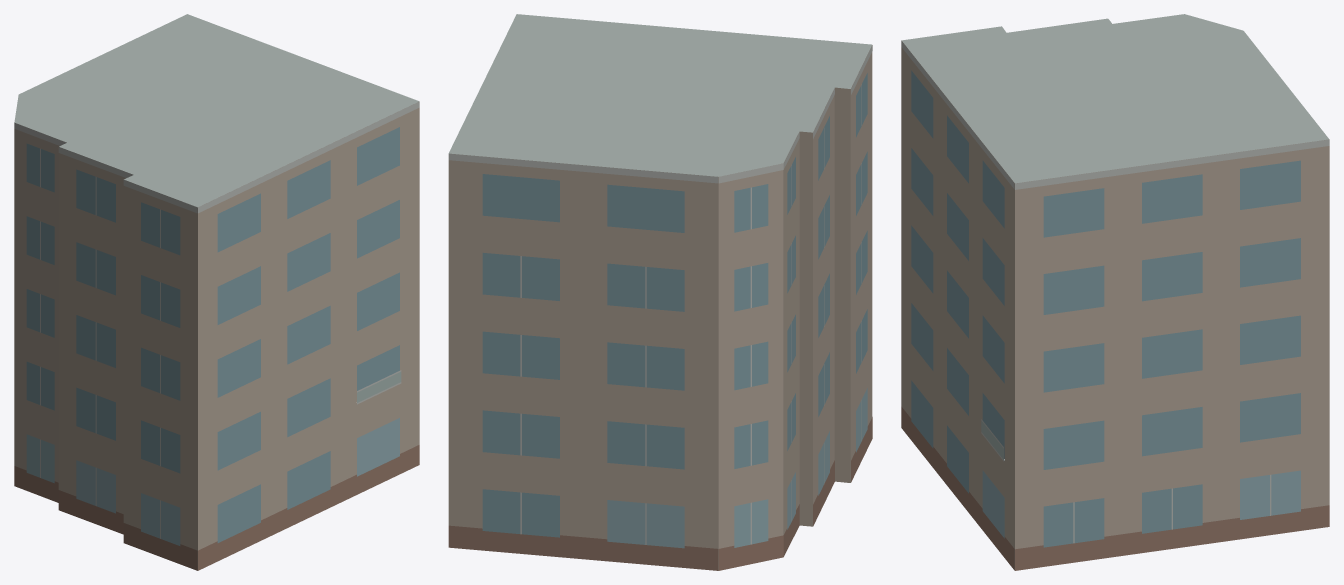
File: survey-upis-32888399.glb
The picture shows the model from 3 angles, left to right: view 1: azimuth 30°, elevation 25°; view 2: azimuth 150°, elevation 25°; view 3: azimuth 270°, elevation 25°; orthographic projection. The views are drawn at different scales.
Visible parts, largest first — view 1: survey-upis-32888399.tmp; view 2: survey-upis-32888399.tmp; view 3: survey-upis-32888399.tmp.
Part boxes in pixels (x1,y1,x2,y2): survey-upis-32888399.tmp: [14, 14, 419, 570]; survey-upis-32888399.tmp: [448, 14, 872, 570]; survey-upis-32888399.tmp: [901, 14, 1329, 570].
Bounding box in the file's own units: 13.56 × 14.45 × 14.48.
